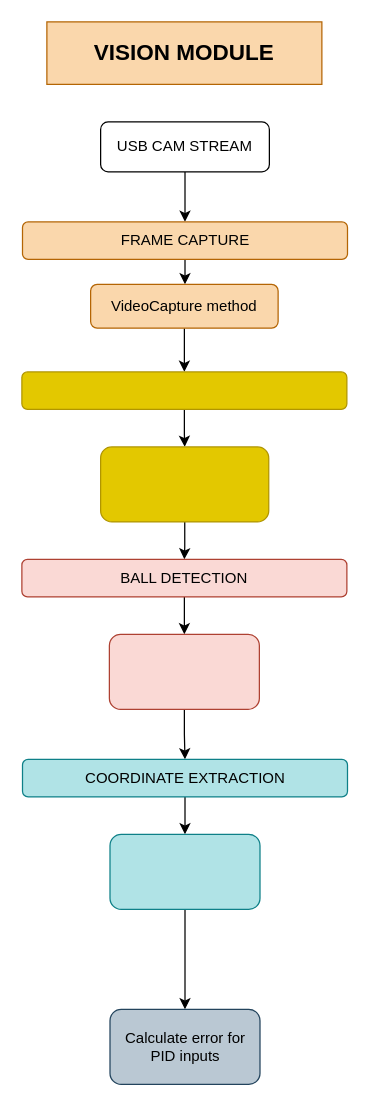
Image size: 370x1106. Some labels were removed from this diagram. Each missing label, with the centre of its shape:
"Compute centroid (Pixel Position) Define frame center" goes at (x=184, y=871).
"Contour detection findContours method" goes at (x=183, y=671).
"HSV conversion Masking Gaussian blur" goes at (x=184, y=484).
"IMAGE PREPROCESSING" goes at (x=184, y=390).
